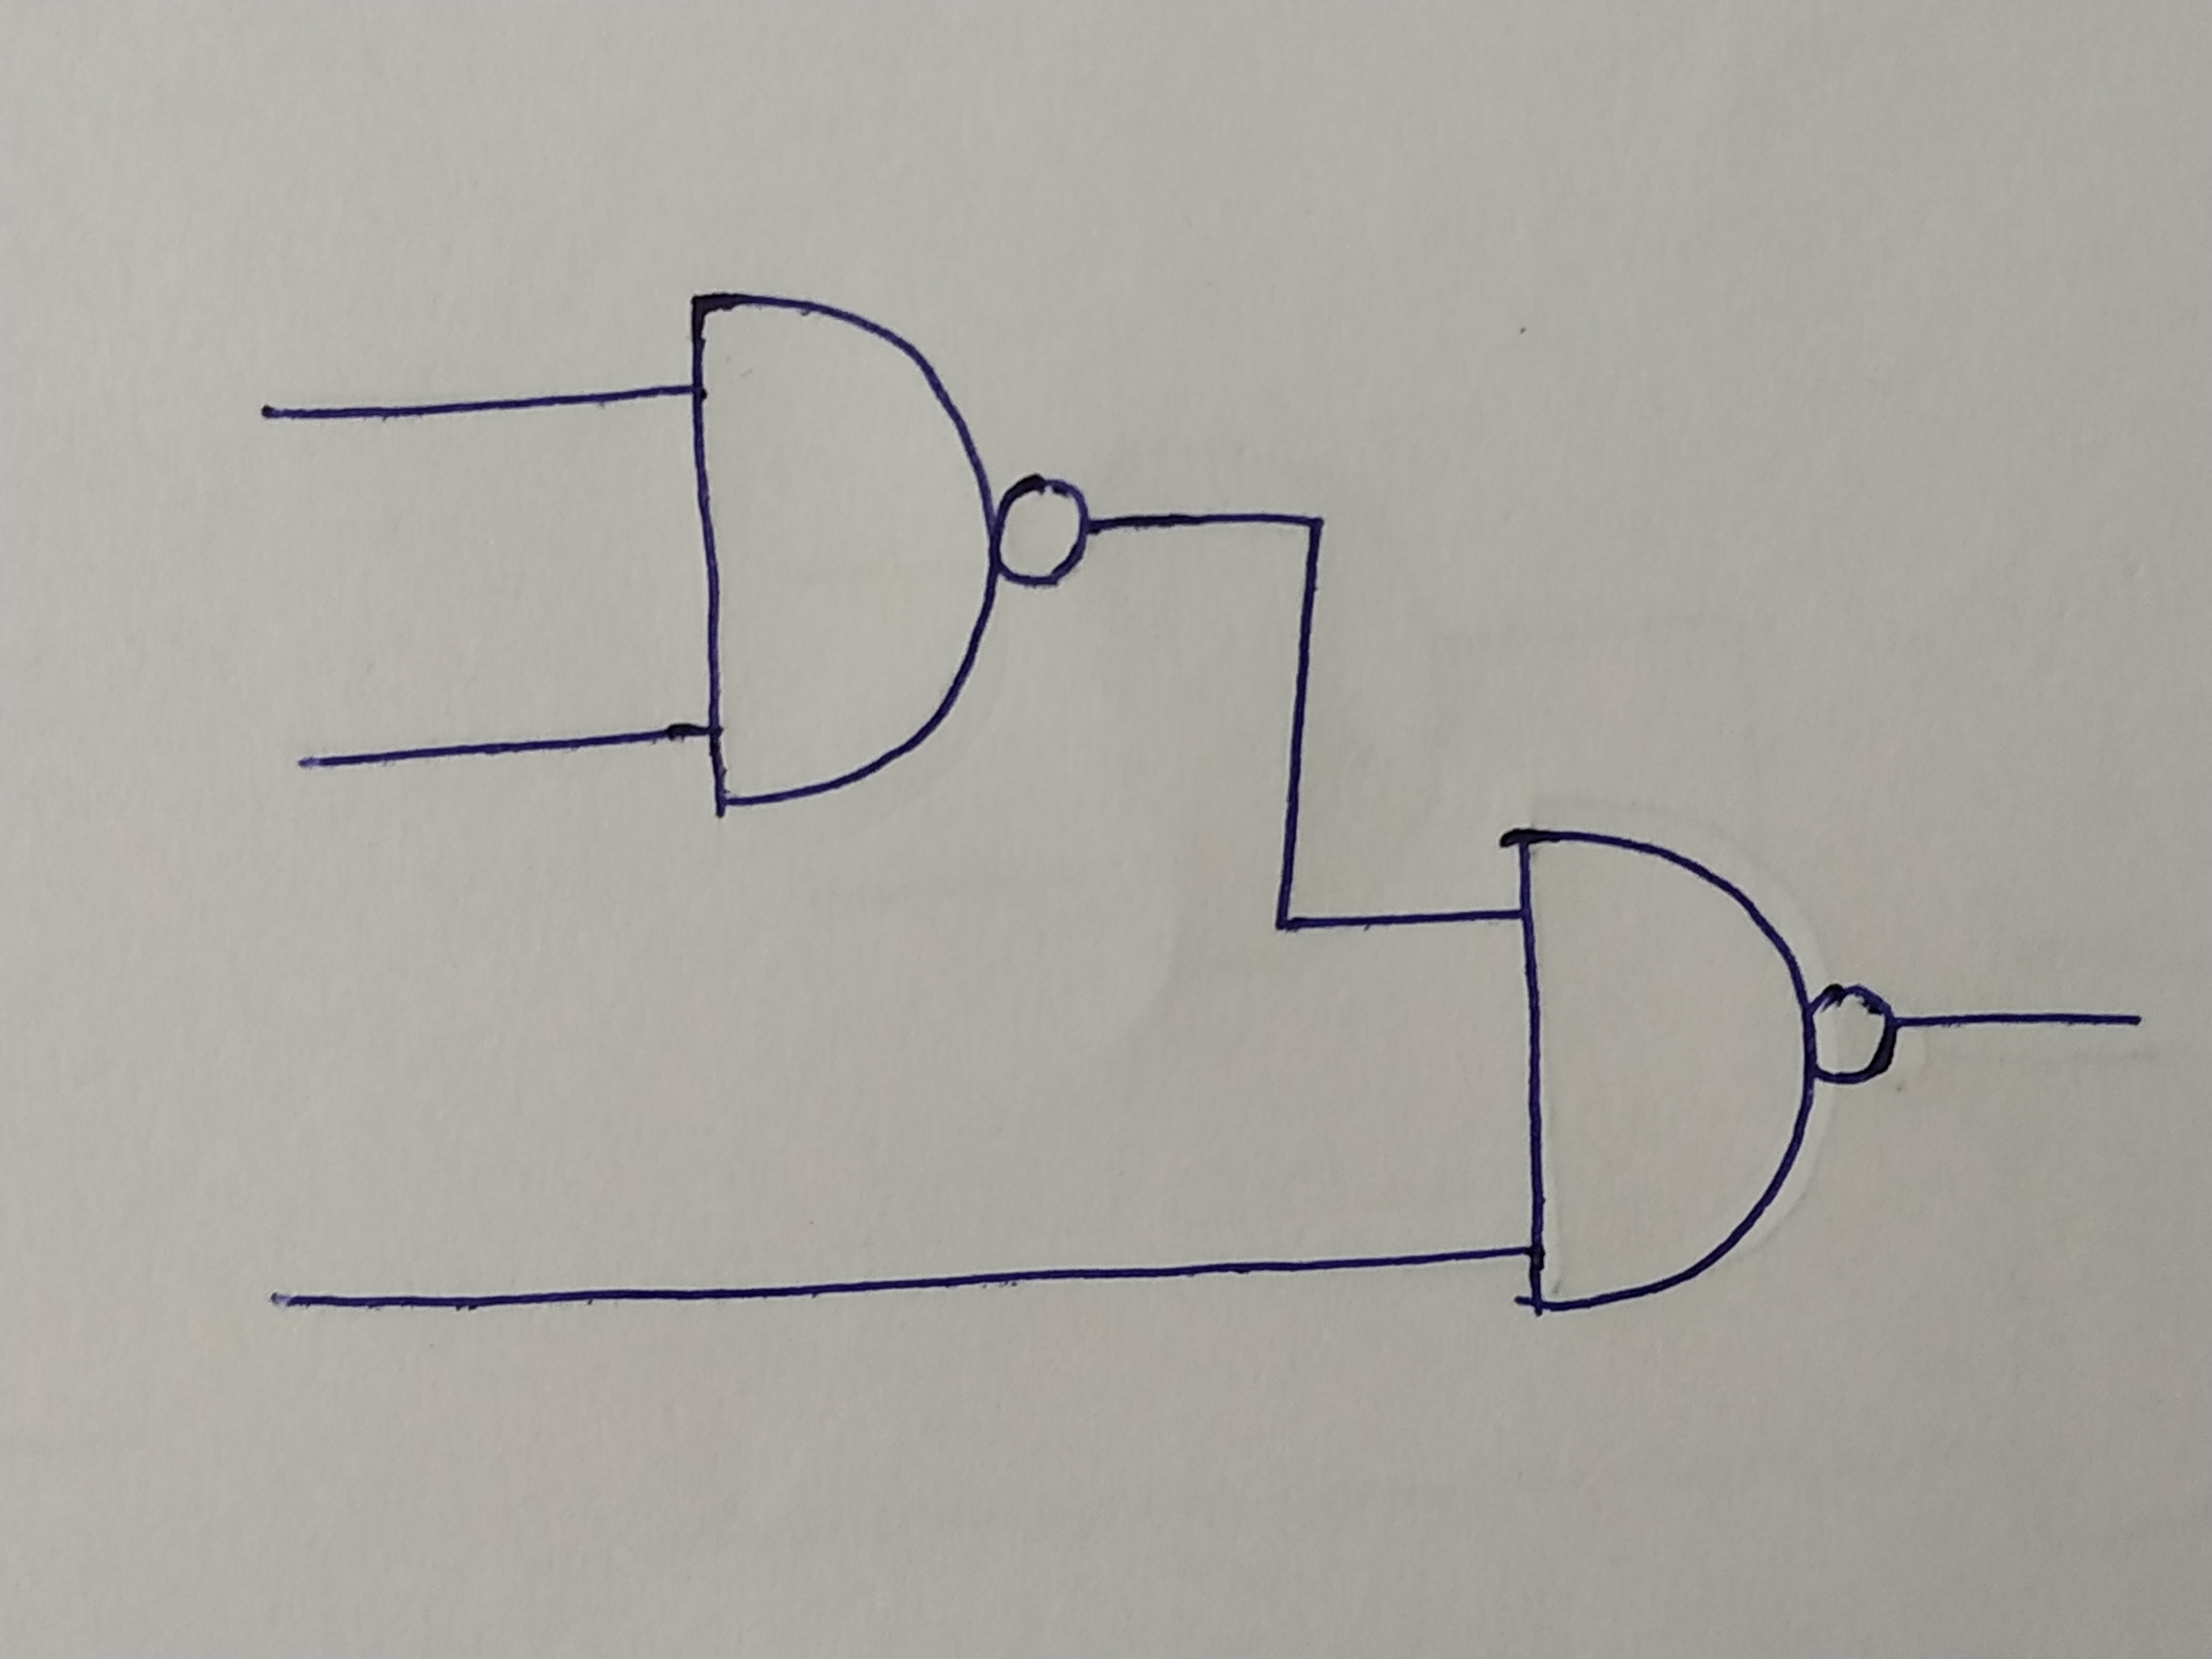and: (681, 289, 995, 805), (1517, 824, 1806, 1314)
not: (995, 477, 1090, 584), (1811, 988, 1898, 1077)
